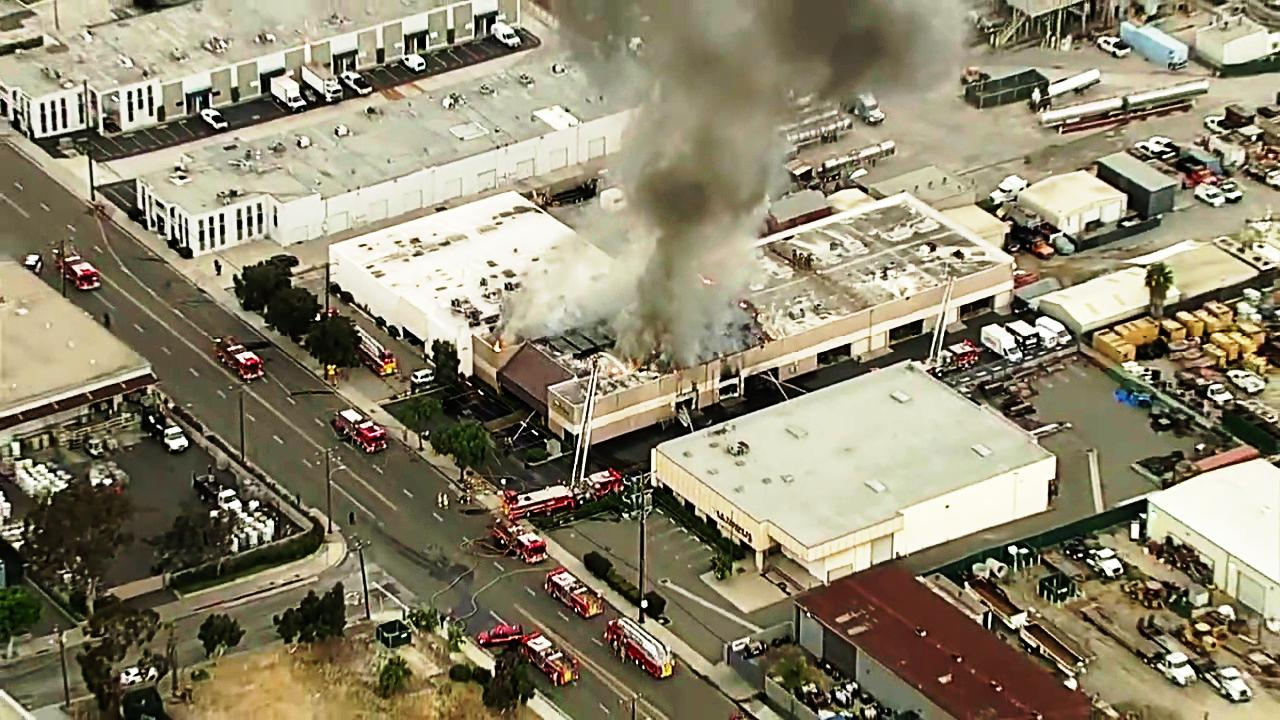smoke: (646, 17, 730, 309)
